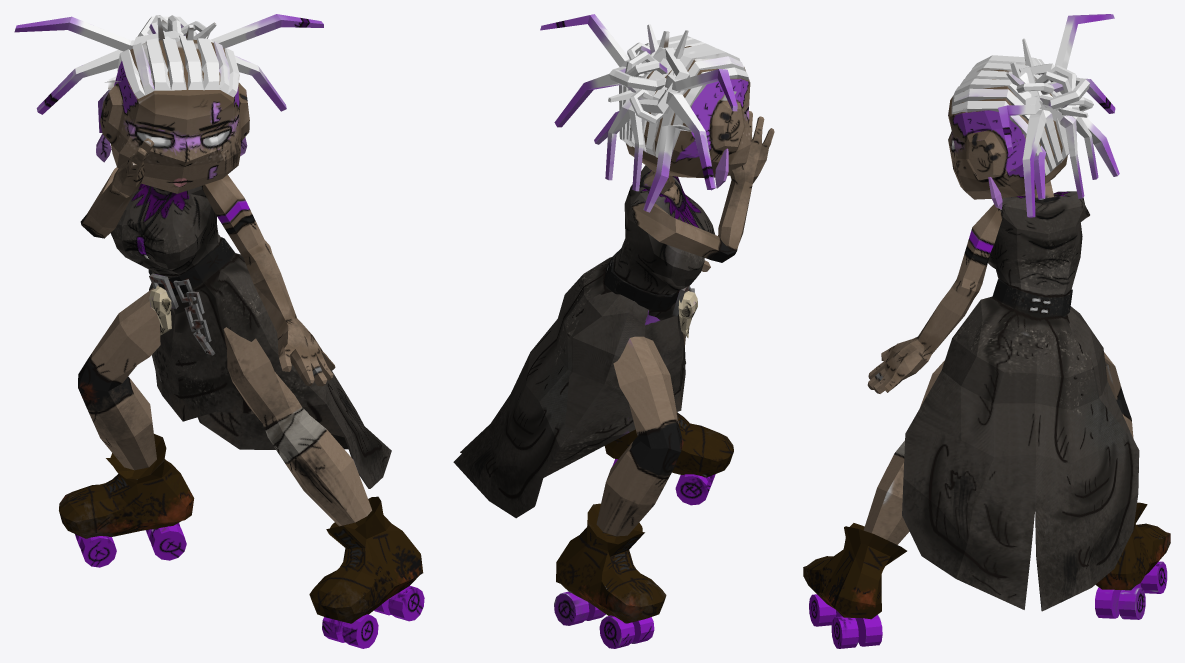
The model's file is bruja_000076.obj.
3 views of the same model, side by side, from view 1: azimuth 30°, elevation 25°; view 2: azimuth 150°, elevation 25°; view 3: azimuth 270°, elevation 25° (orthographic). The views are drawn at different scales.
Parts seen in each view (by area): view 1: Bruja_Plane.001; view 2: Bruja_Plane.001; view 3: Bruja_Plane.001.
Boxes of the visible parts, x1,y1,x2,y2 form: Bruja_Plane.001: (14,14,424,648); Bruja_Plane.001: (453,14,774,648); Bruja_Plane.001: (803,14,1170,648).
Bounding box in the file's own units: 9.1 × 15.42 × 9.26.
